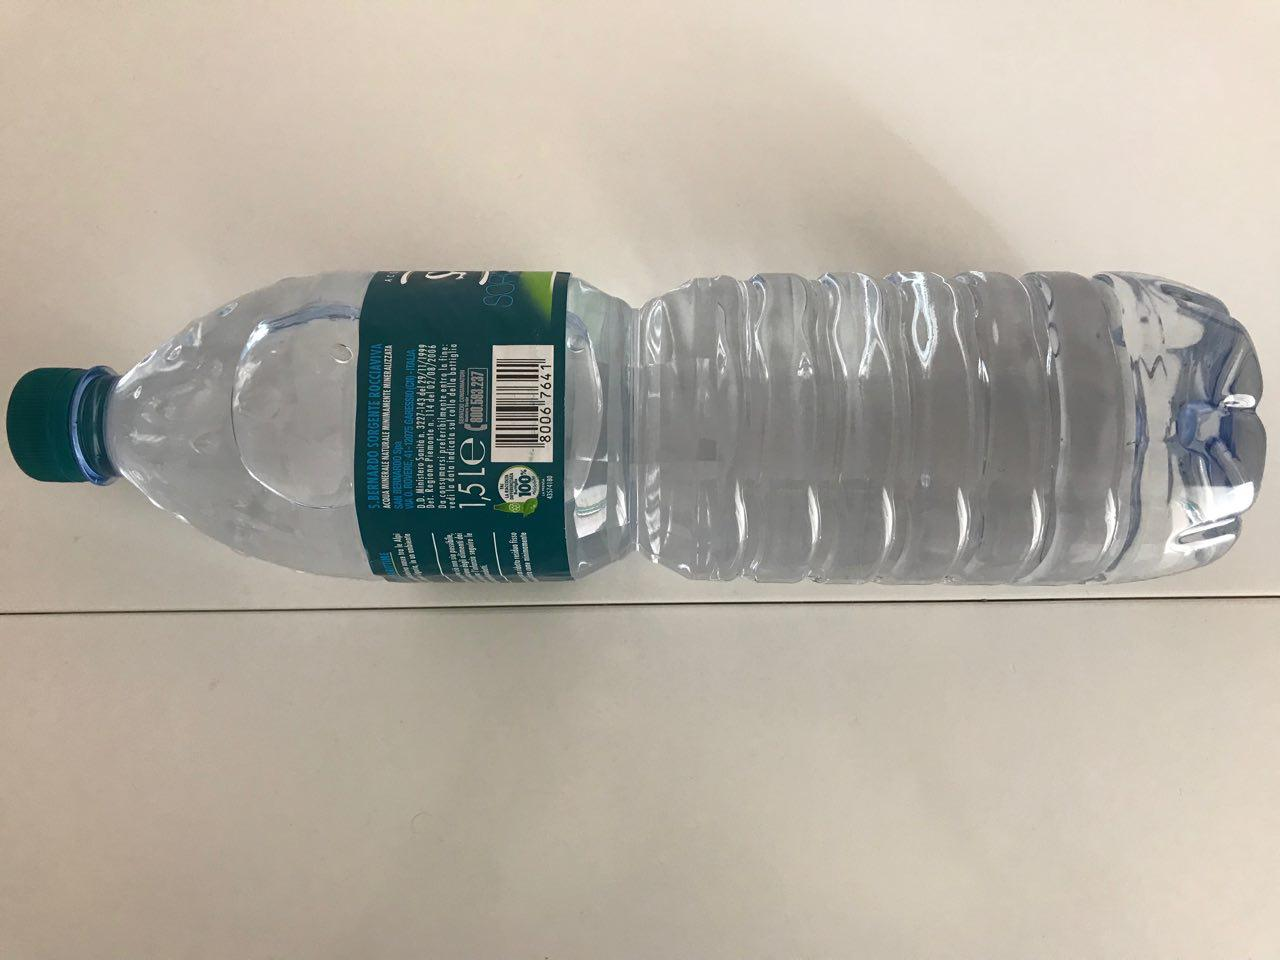san_bernardo: (5, 264, 1270, 590)
